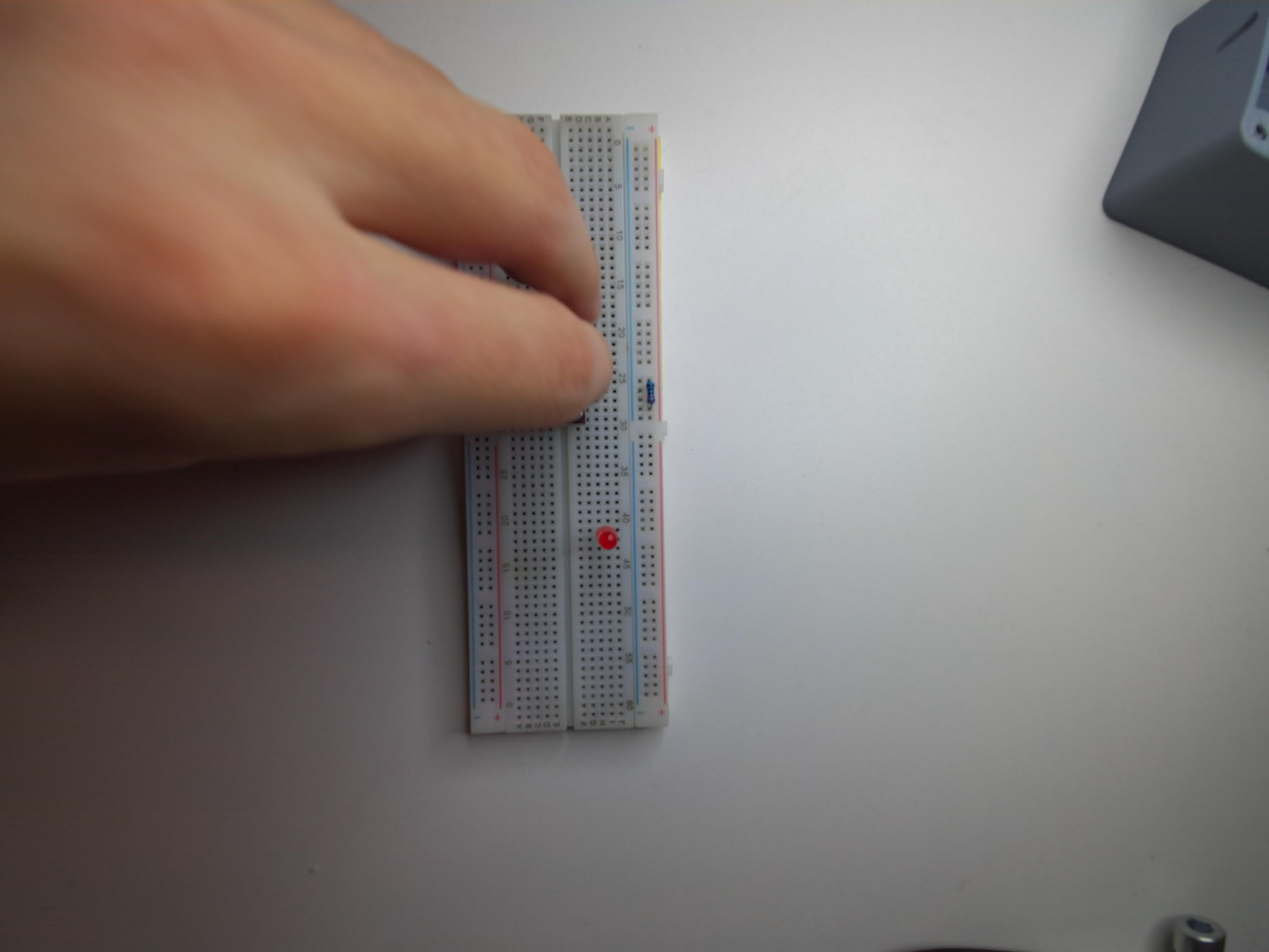base: (466, 113, 670, 746)
red-led: (592, 519, 626, 557)
resistor-small: (641, 374, 662, 413)
